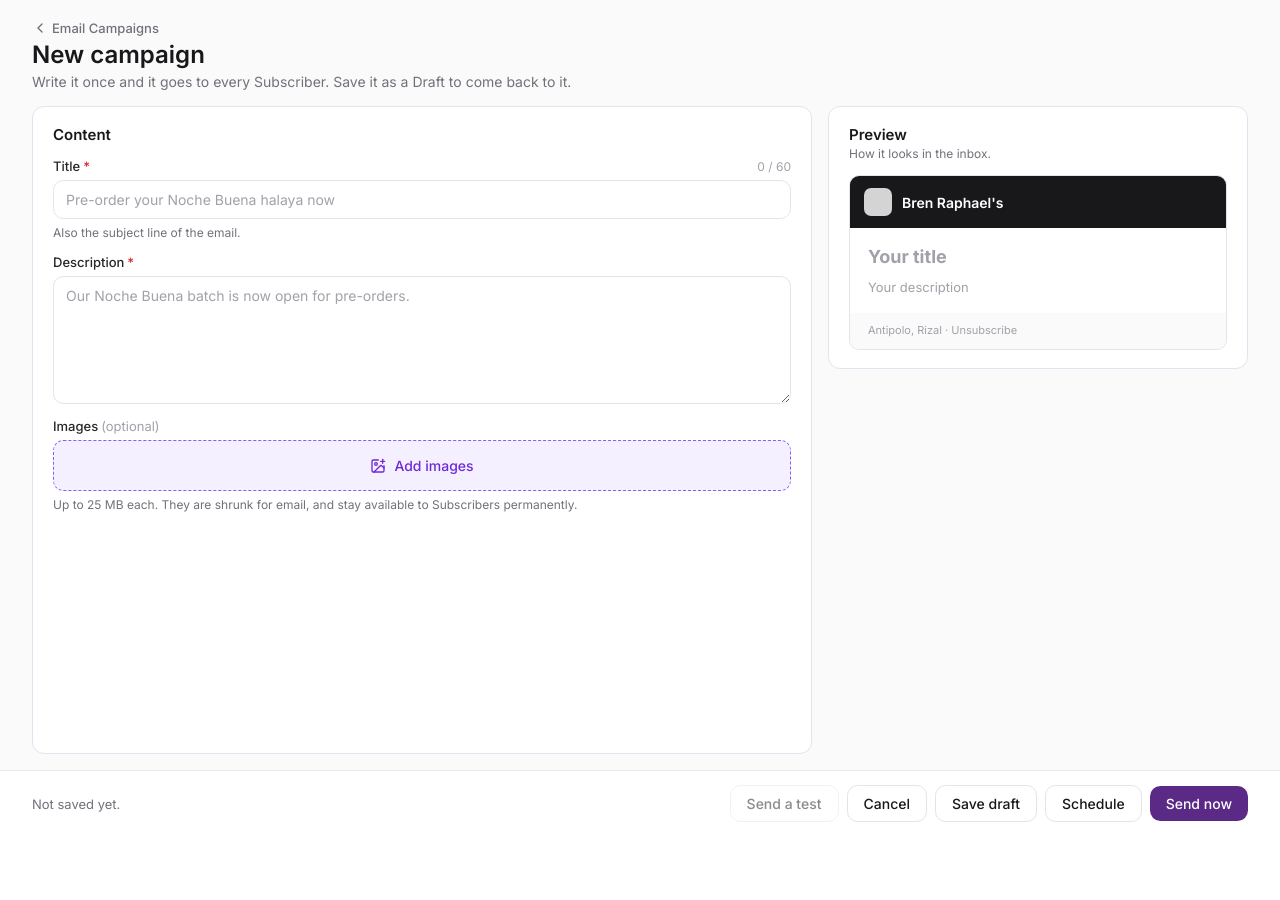
sending now from the form › blocks sending when there are no Subscribers
The width and height of the screenshot is (1280, 900).
Type "Halaya" into the field labelled "Title *" at (422, 200), box [53, 180, 791, 219]
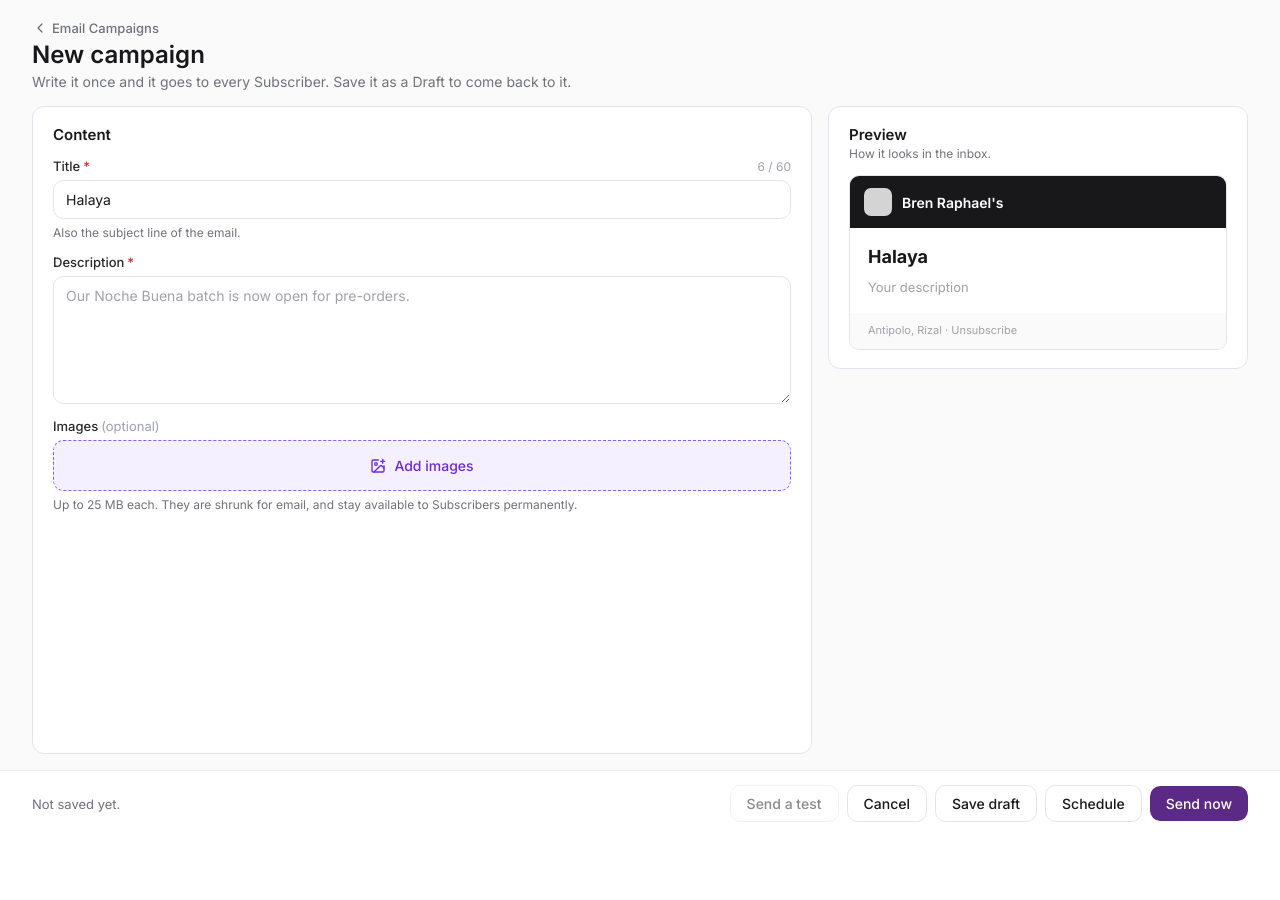
Type "Restocked." into the text box labelled "Description *" at (422, 340), box [53, 276, 791, 404]
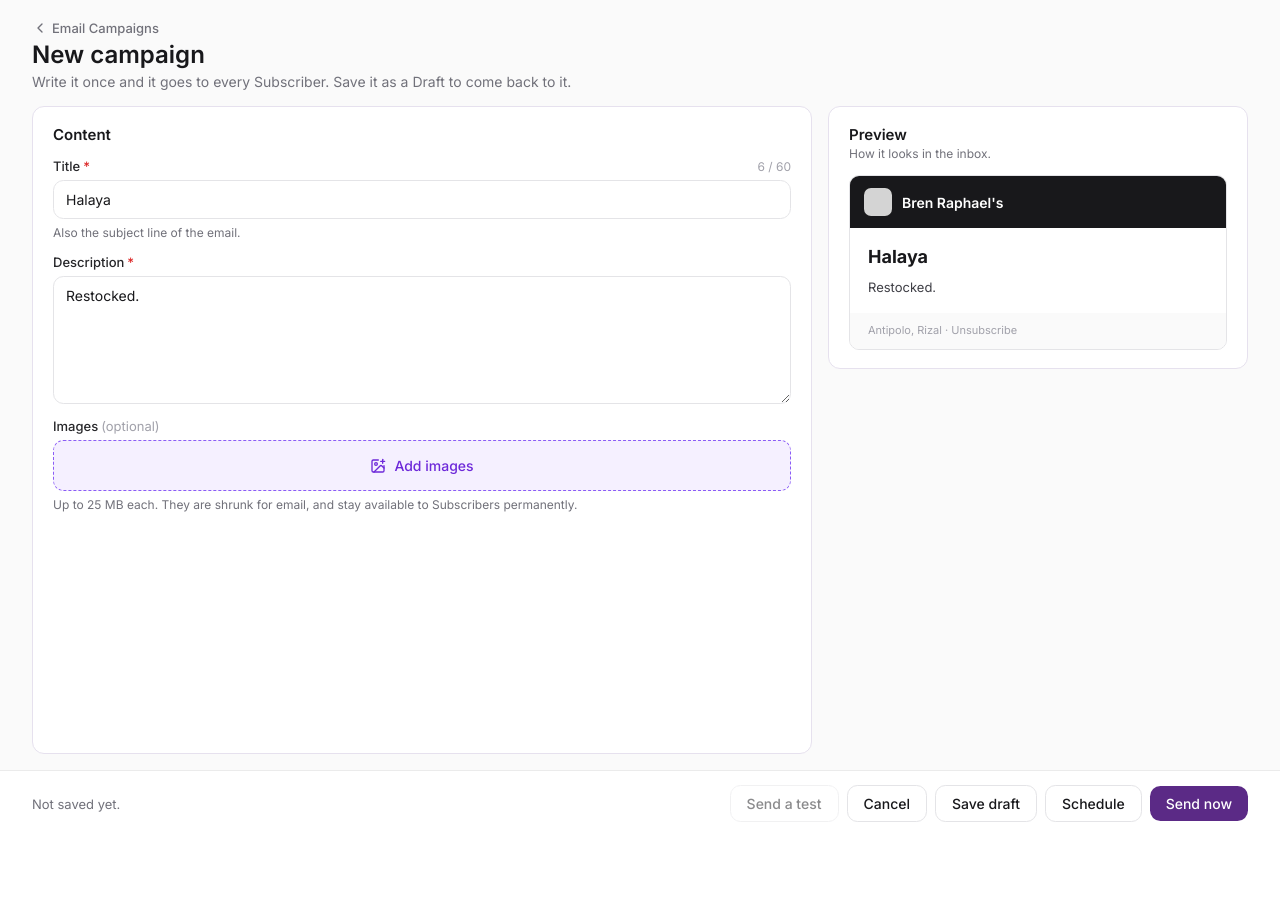
Click the button "Send now" at (1199, 804), box [1150, 786, 1248, 821]
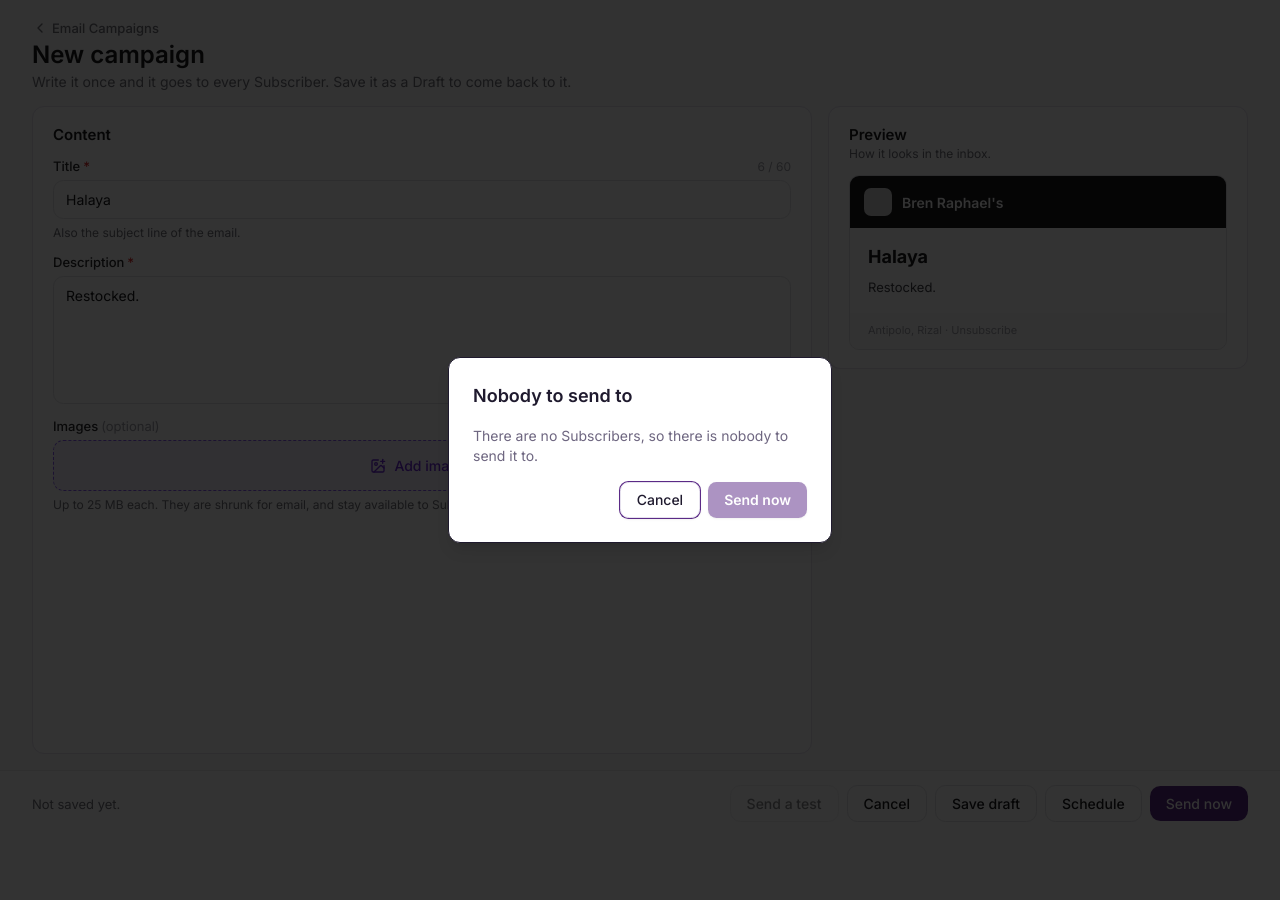
Now the text "There are no Subscribers, so there is nobody to send it to." is shown, box [473, 426, 807, 466]
Now the button "Send now" is disabled, box [708, 482, 807, 518]
